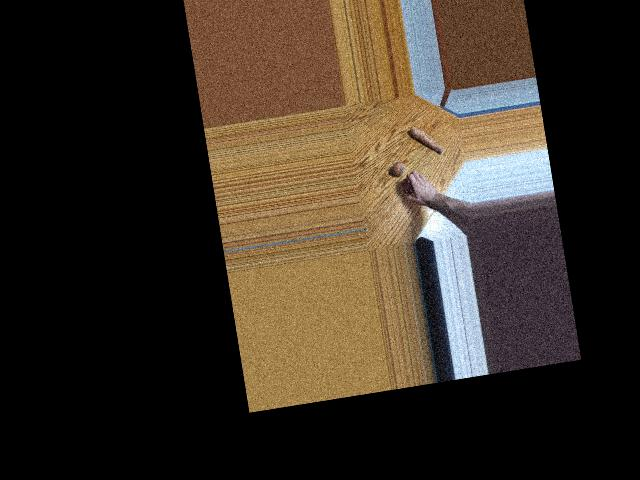onion: (393, 162, 406, 177)
